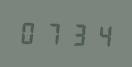four: (87, 20, 109, 48)
seven: (41, 19, 63, 46)
three: (64, 19, 86, 47)
zero: (18, 18, 40, 46)
